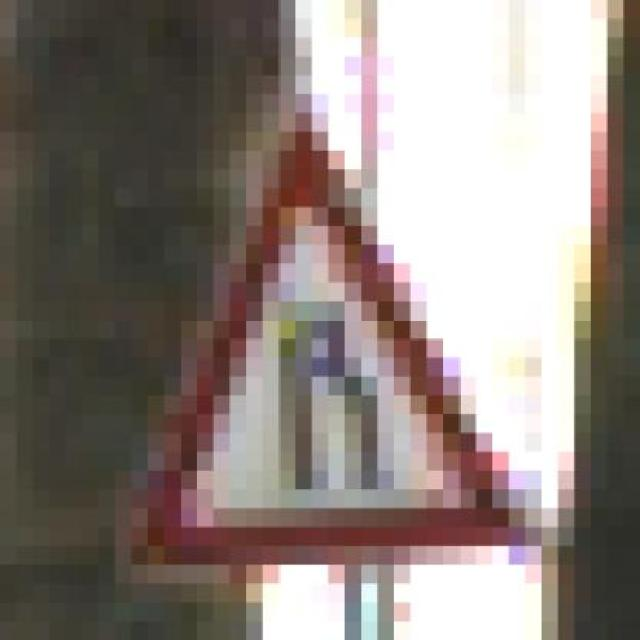-Road narrows on right: (115, 94, 542, 583)
